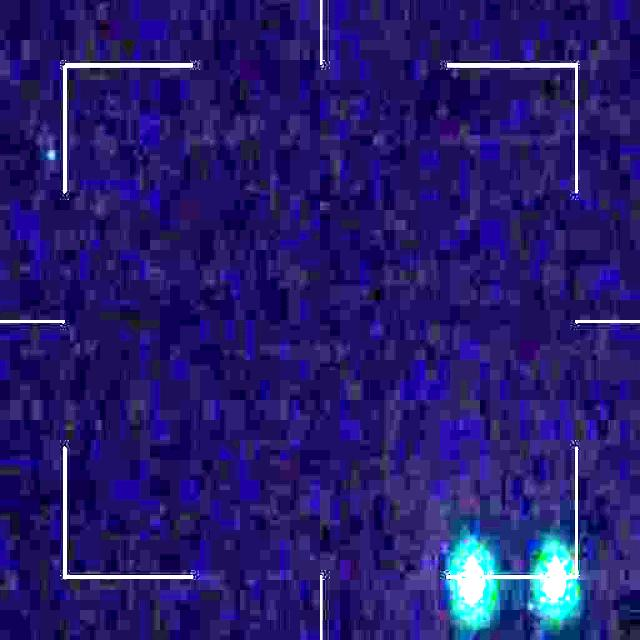bird: (458, 550, 571, 628)
